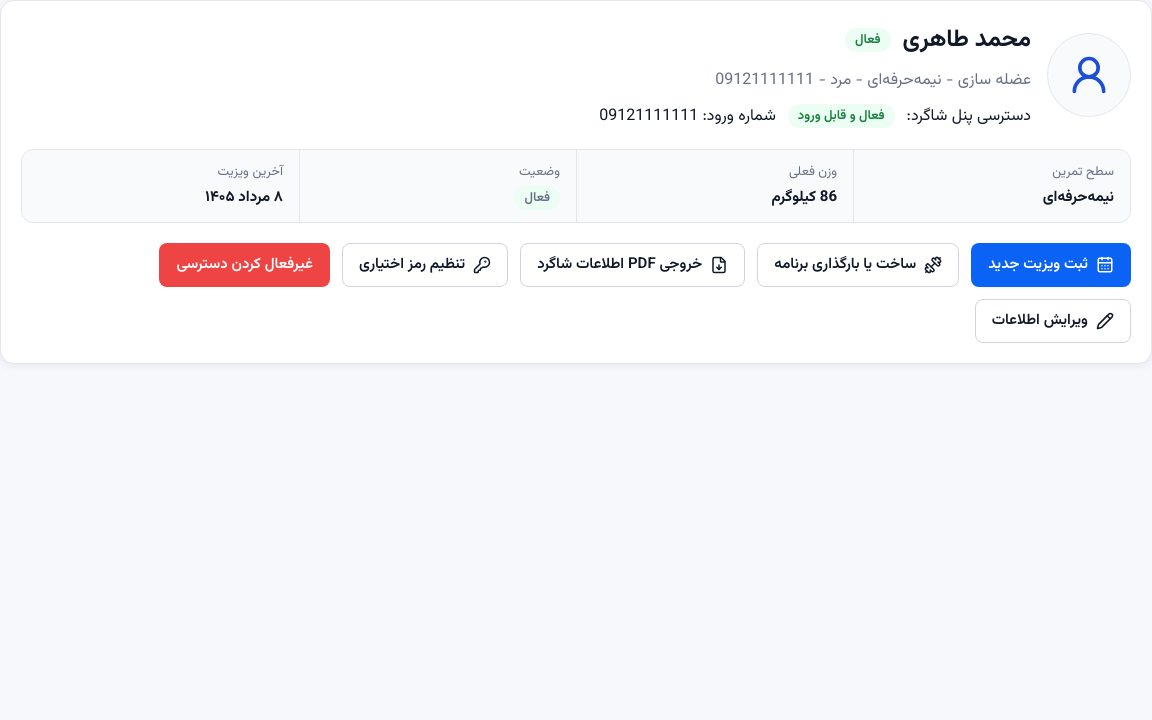
phone-based portal activation › offers optional password setup for an OTP-ready account without a password
The image size is (1152, 720).
Click the button "تنظیم رمز اختیاری" at (425, 265), box [342, 243, 508, 287]
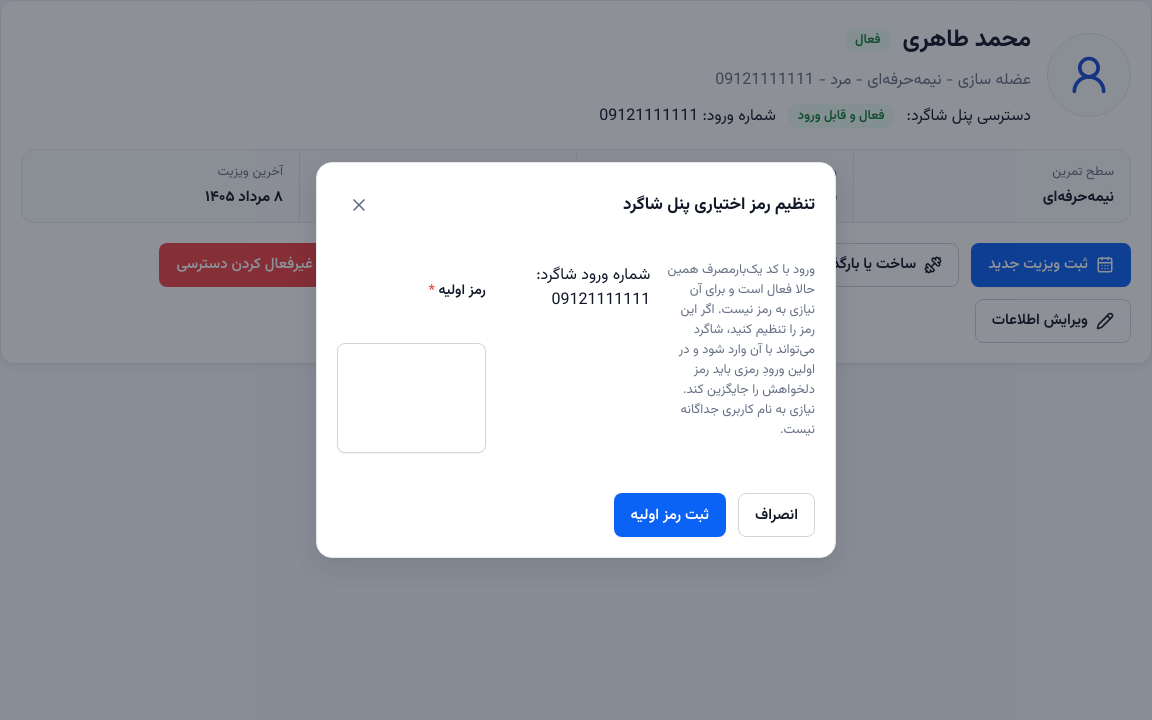
Result: the dialog shows "ورود با کد یک‌بارمصرف همین حالا فعال است" at [668, 260, 815, 440]
Result: the dialog shows "در اولین ورودِ رمزی" at [668, 260, 815, 440]
